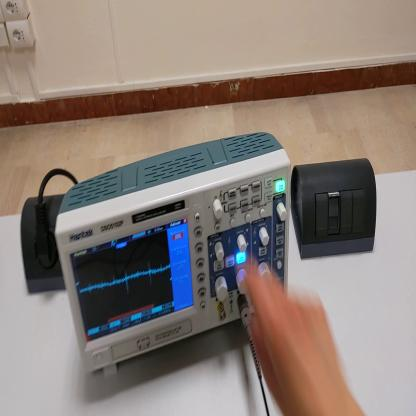hand: (240, 255, 349, 416)
oscilloscope: (53, 133, 292, 382)
socket: (21, 196, 68, 297)
